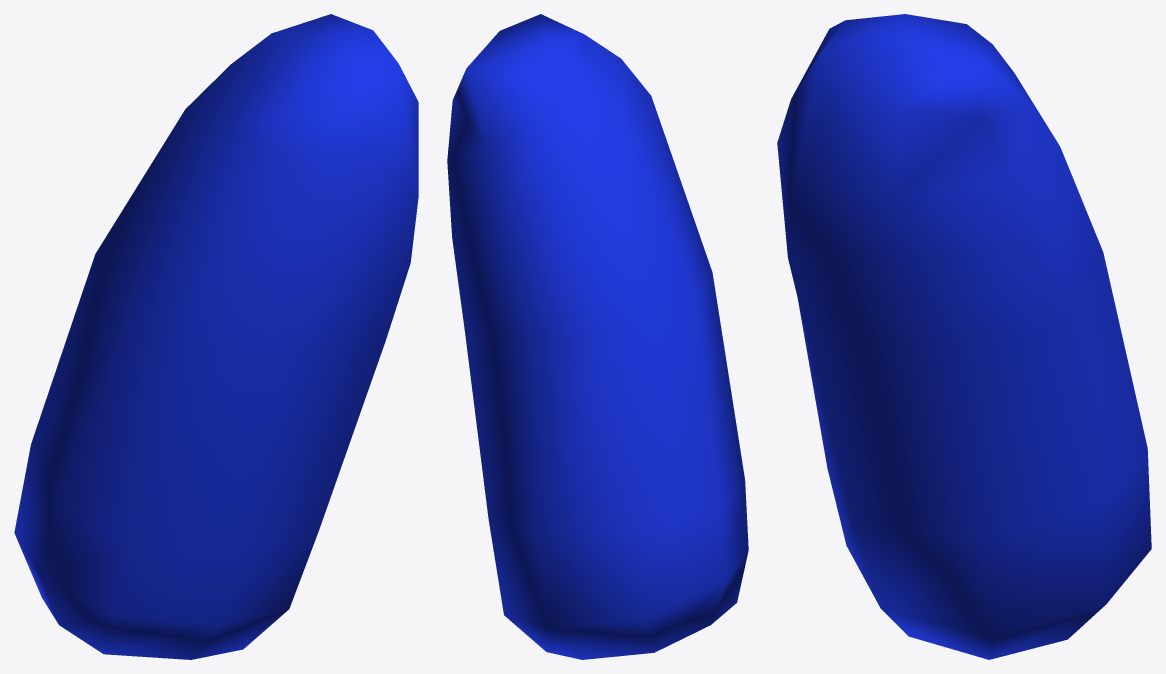
Rendered from Turtleneck rightupper.fbx.
3 renders of one model, left to right at view 1: azimuth 30°, elevation 25°; view 2: azimuth 150°, elevation 25°; view 3: azimuth 270°, elevation 25°, orthographic. The views are drawn at different scales.
Visible parts, largest first — view 1: LeftUpperLongSleeve.001; view 2: LeftUpperLongSleeve.001; view 3: LeftUpperLongSleeve.001.
Boxes of the visible parts, x1,y1,x2,y2 form: LeftUpperLongSleeve.001: (14, 14, 418, 659); LeftUpperLongSleeve.001: (447, 14, 748, 659); LeftUpperLongSleeve.001: (777, 14, 1151, 659).
Bounding box in the file's own units: 27.25 × 50.32 × 25.6.
